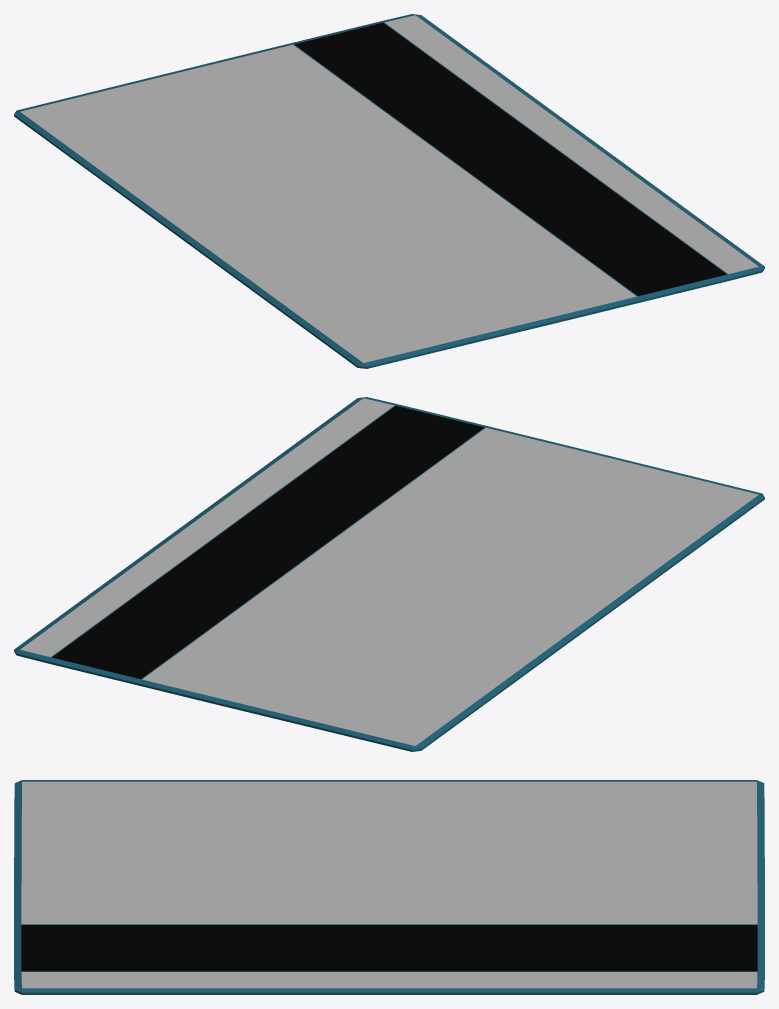
Rendered from Access_Card.fbx.
The picture shows the model from 3 angles, top to bottom: view 1: azimuth 30°, elevation 25°; view 2: azimuth 150°, elevation 25°; view 3: azimuth 270°, elevation 25°; orthographic projection. The views are drawn at different scales.
Visible parts, largest first — view 1: pCube1; view 2: pCube1; view 3: pCube1.
Part boxes in pixels (left/top/right/bottom): pCube1: left=14, top=14, right=764, bottom=368; pCube1: left=14, top=397, right=764, bottom=751; pCube1: left=14, top=780, right=764, bottom=994.
Size of the model in its own units: 7.85 by 0.0904 by 11.72.
